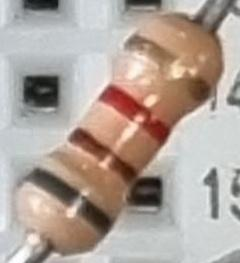Brown: (66, 126, 141, 191)
Green: (22, 161, 117, 239)
Red: (94, 82, 171, 148)
Side-Gold: (120, 29, 215, 109)
